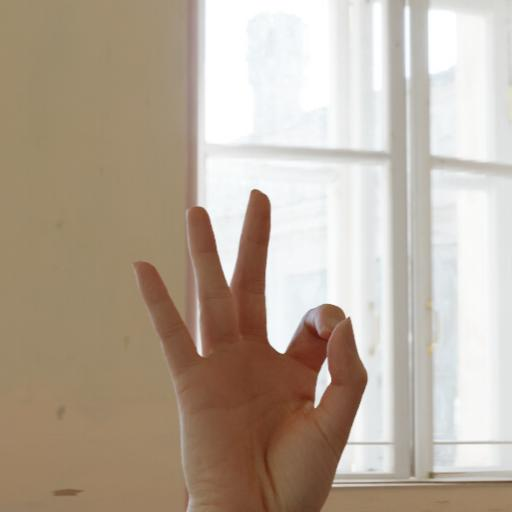F: (112, 179, 383, 512)
